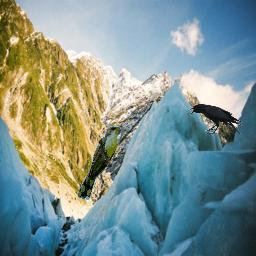Crow: (189, 104, 243, 134)
Cuckoo: (78, 126, 123, 200)
